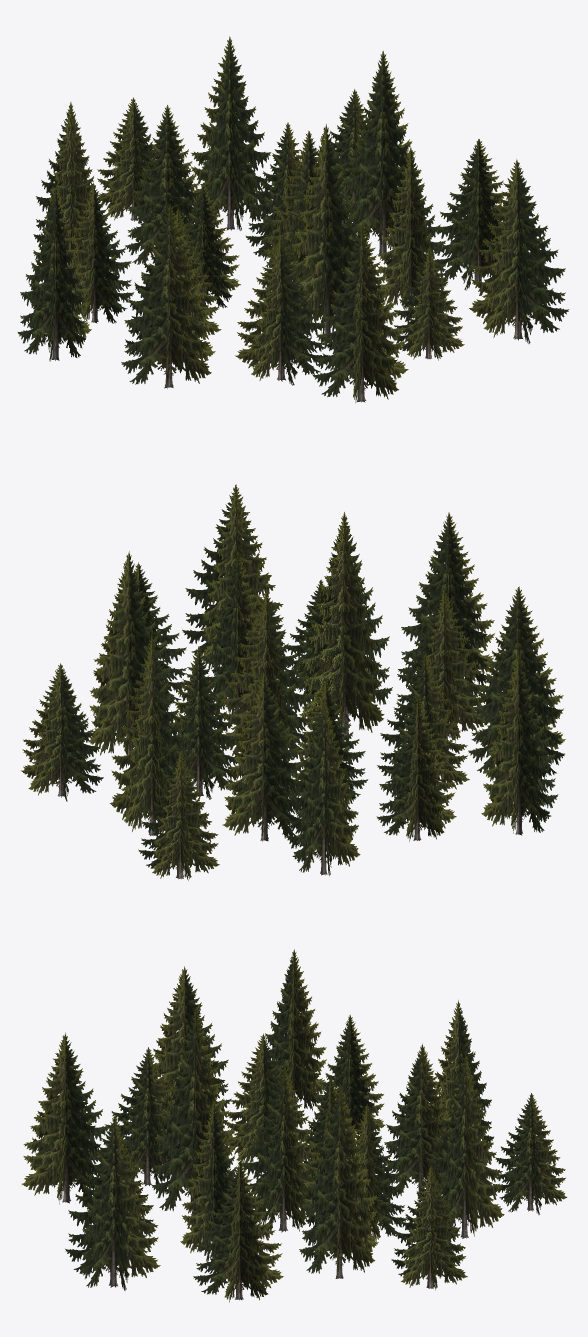
File: forest-lod-2.glb
The picture shows the model from 3 angles, top to bottom: view 1: azimuth 30°, elevation 25°; view 2: azimuth 150°, elevation 25°; view 3: azimuth 270°, elevation 25°; orthographic projection. The views are drawn at different scales.
Visible parts, largest first — view 1: forest-lod-2; view 2: forest-lod-2; view 3: forest-lod-2.
Boxes of the visible parts, x1,y1,x2,y2 form: forest-lod-2: (17, 36, 569, 403); forest-lod-2: (21, 484, 565, 880); forest-lod-2: (21, 949, 567, 1302).
Bounding box in the file's own units: 46.15 × 20.95 × 49.2.
1 material, 1 textured.
